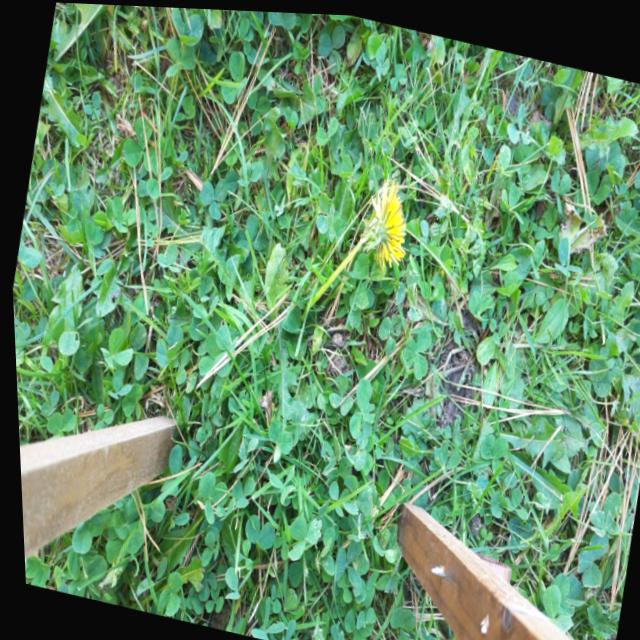base: (287, 286, 322, 329)
